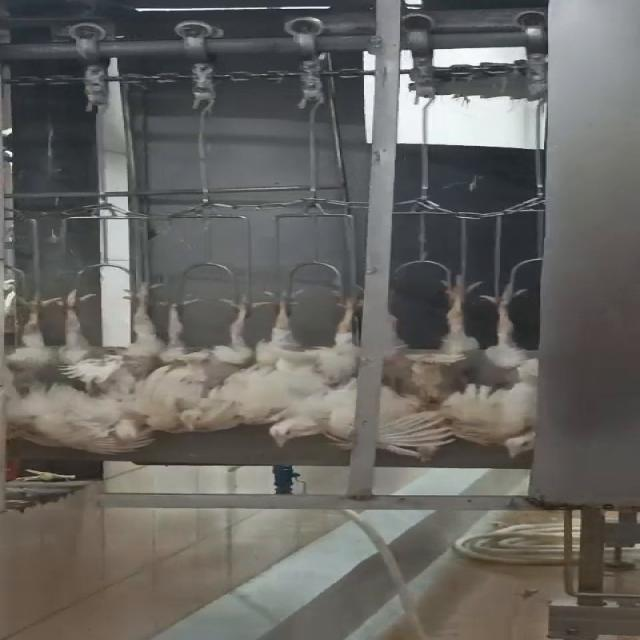chicken: (245, 278, 384, 450), (370, 272, 482, 458), (46, 284, 166, 456), (151, 294, 267, 435), (476, 278, 538, 458), (0, 288, 61, 441)
